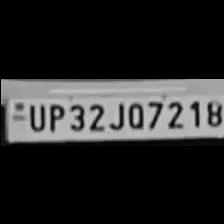1: (184, 96, 202, 128)
2: (84, 97, 106, 130), (162, 96, 184, 128)
3: (65, 99, 85, 131)
7: (144, 96, 162, 130)
8: (202, 96, 222, 128)
J: (106, 97, 124, 130)
P: (44, 100, 64, 132)
Q: (124, 98, 144, 130)
U: (23, 99, 44, 131)
